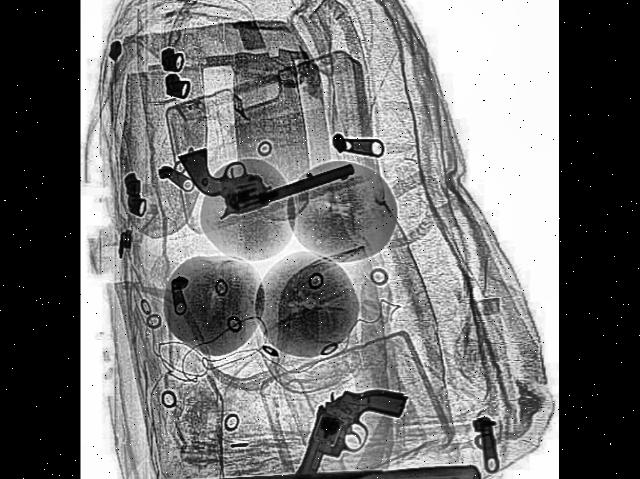Gun: (179, 98, 356, 229), (297, 343, 410, 479)
Knife: (171, 460, 481, 479)
